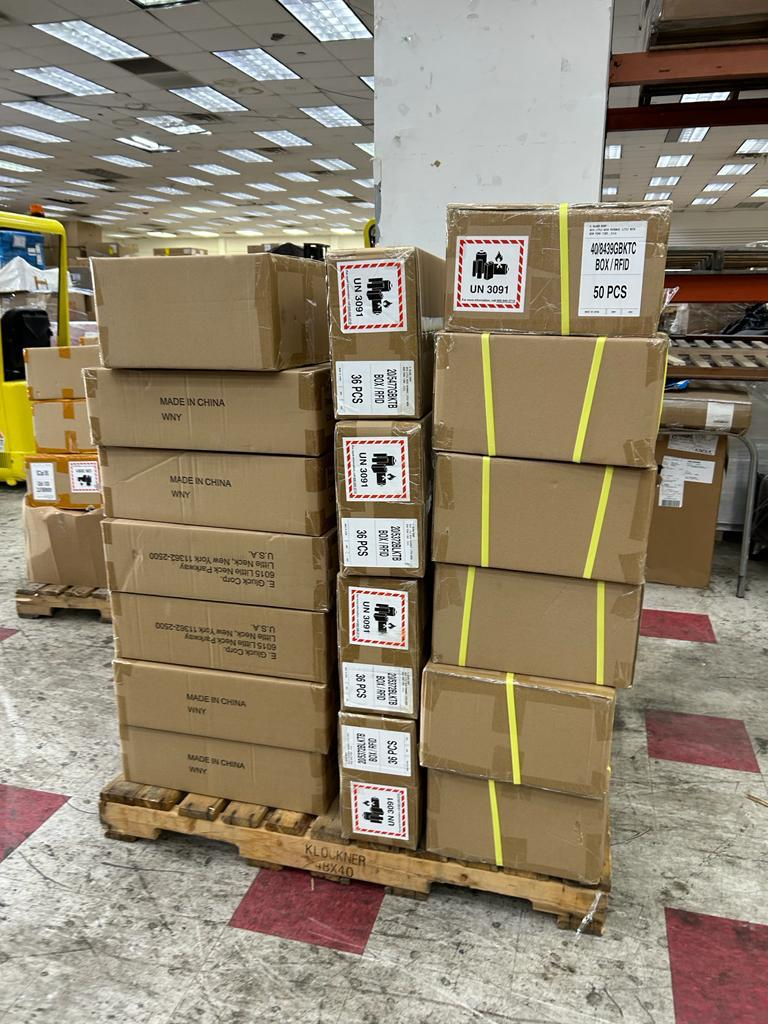box: (429, 324, 702, 483), (80, 198, 308, 366), (434, 436, 670, 589), (408, 539, 643, 689), (412, 633, 627, 795), (37, 369, 323, 485), (90, 502, 333, 635), (52, 436, 324, 554), (84, 632, 323, 757), (405, 757, 624, 892), (80, 717, 365, 819), (93, 598, 331, 692), (318, 557, 414, 671), (327, 632, 411, 735), (333, 424, 420, 523), (315, 345, 417, 424), (323, 269, 408, 363), (326, 701, 417, 786), (340, 773, 420, 860), (336, 510, 436, 576)
